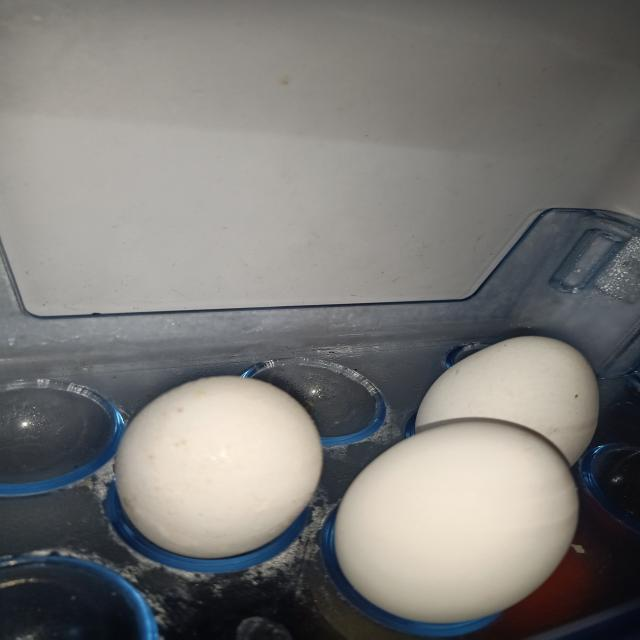Egg: (334, 422, 579, 625), (114, 376, 322, 560), (416, 336, 599, 465)
